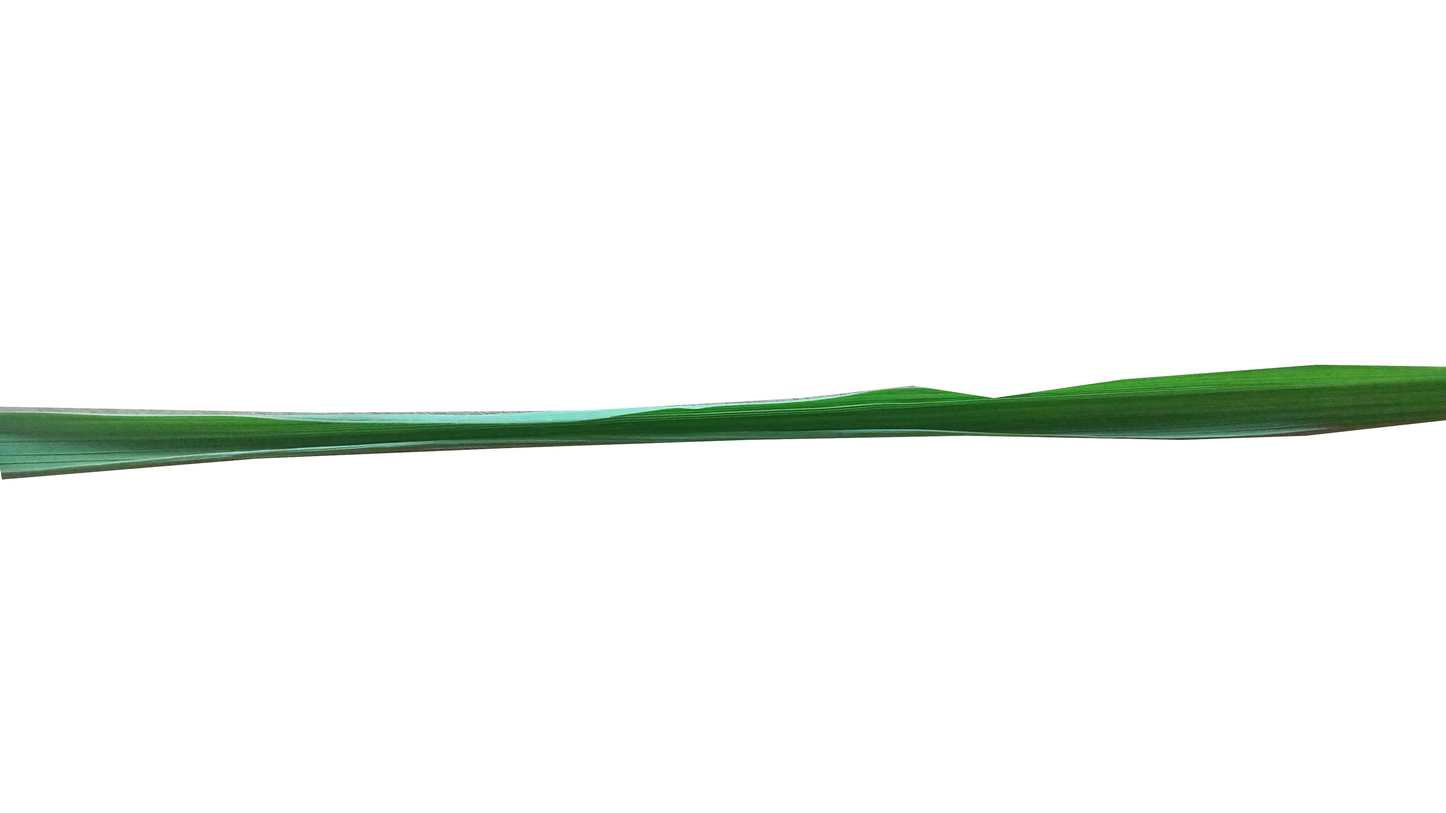Healthy: (0, 366, 1446, 478)
